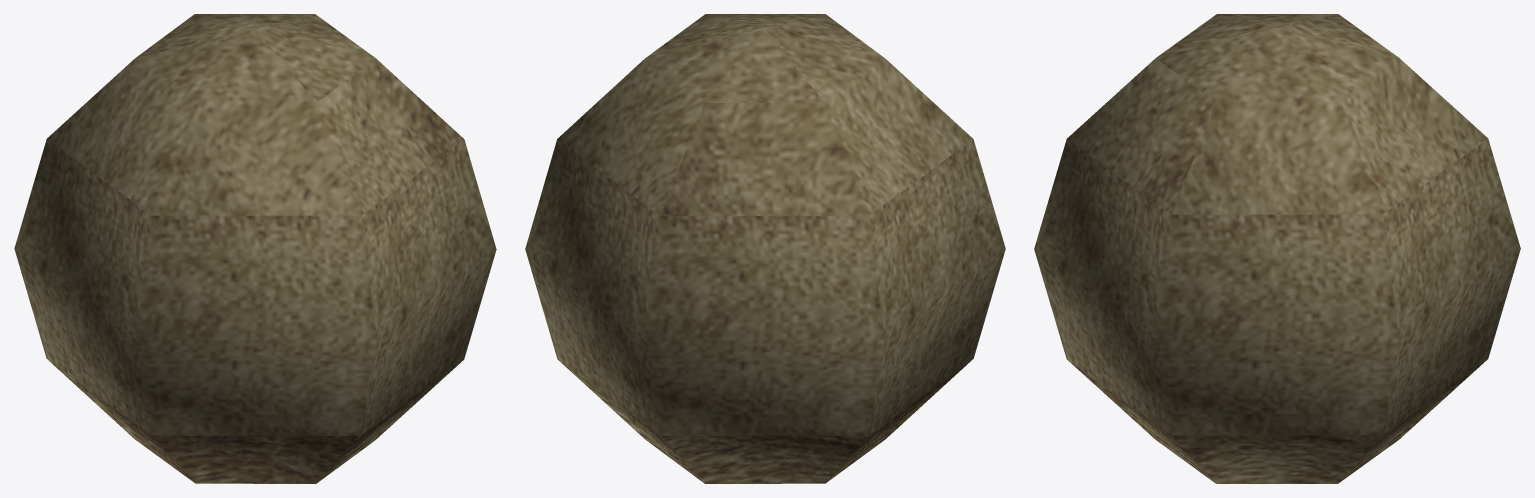
The model's file is SM_EC_Hay_Ball_0.fbx.
The picture shows the model from 3 angles, left to right: view 1: azimuth 30°, elevation 25°; view 2: azimuth 150°, elevation 25°; view 3: azimuth 270°, elevation 25°; orthographic projection.
Parts seen in each view (by area): view 1: SM_EC_Hay_Ball_0; view 2: SM_EC_Hay_Ball_0; view 3: SM_EC_Hay_Ball_0.
Boxes of the visible parts, x1,y1,x2,y2 form: SM_EC_Hay_Ball_0: (14,14,496,483); SM_EC_Hay_Ball_0: (525,14,1005,483); SM_EC_Hay_Ball_0: (1034,14,1520,483).
Bounding box in the file's own units: 2.06 × 2.41 × 2.41.
